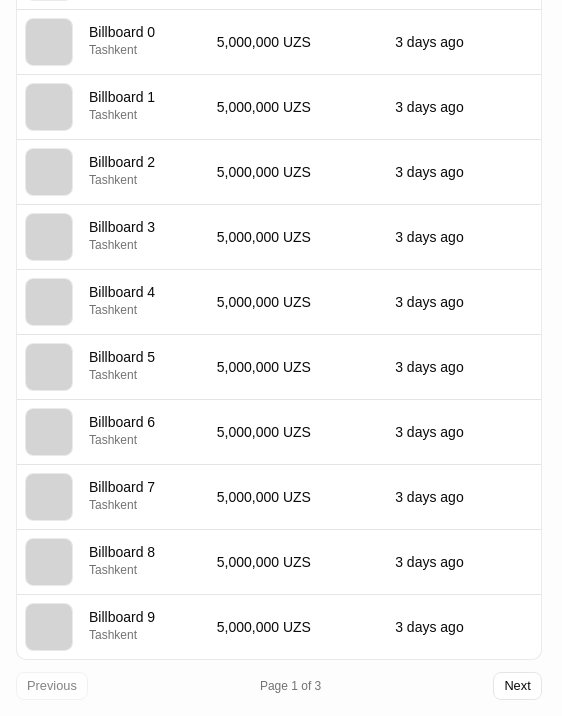
Test: tabs and filters › pages through a long queue with Previous and Next
The image size is (562, 716).
(page scrolled)
Expected: the text "Page 1 of 3" is shown, [260,678,321,694]
Expected: the button "Previous" is disabled, [16,672,88,700]
Click the button "Next".
click(518, 686)  # box [493,672,542,700]
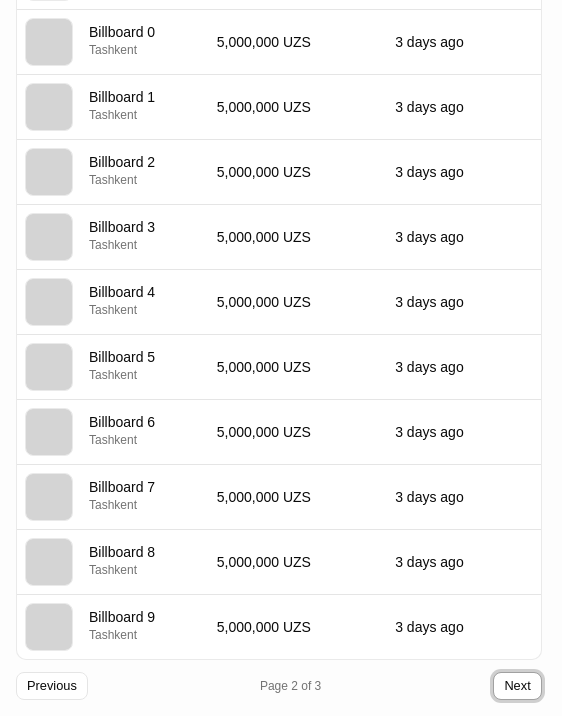
Expected: the text "Page 2 of 3" is shown, [260,678,321,694]
Expected: the button "Previous" is enabled, [16,672,88,700]
